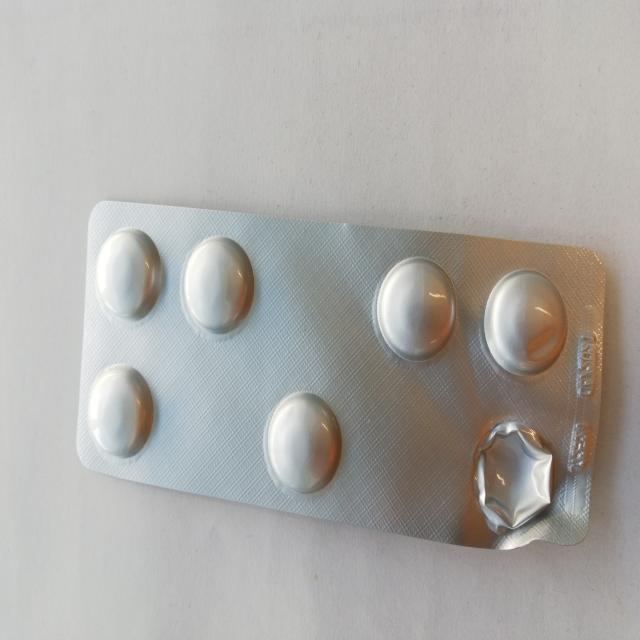Empty: (468, 415, 560, 539)
Pill: (480, 264, 571, 380), (262, 384, 346, 503), (372, 255, 458, 364), (180, 235, 256, 340), (83, 360, 159, 461), (93, 223, 164, 326)
